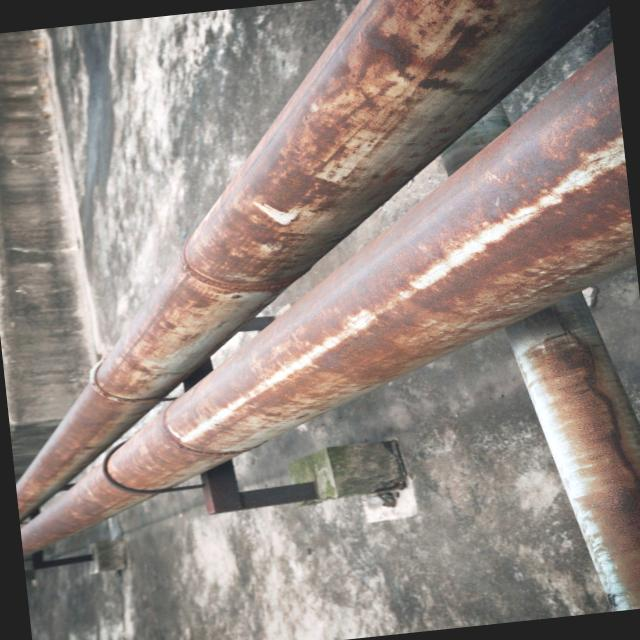gas: (20, 44, 635, 561), (15, 0, 596, 521), (504, 295, 640, 611), (439, 101, 503, 173)
